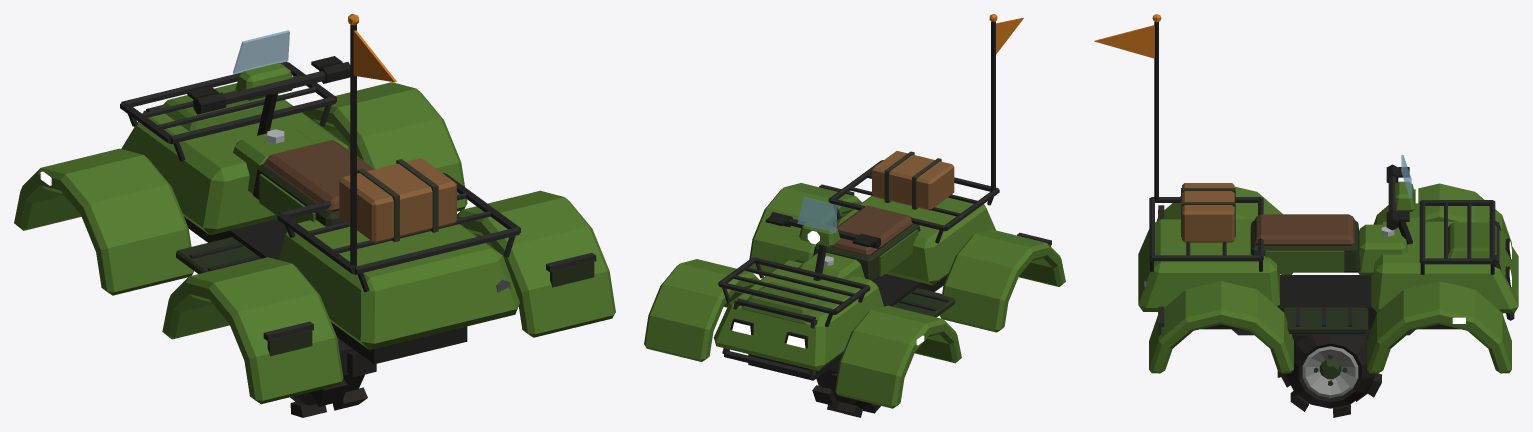
Rendered from ScoutATV.glb.
3 views of the same model, side by side, from view 1: azimuth 30°, elevation 25°; view 2: azimuth 150°, elevation 25°; view 3: azimuth 270°, elevation 25° (orthographic). The views are drawn at different scales.
Parts seen in each view (by area): view 1: Body, Wheel, Glass; view 2: Body, Wheel, Glass, Lights; view 3: Body, Wheel.
Part boxes in pixels (bbox=[...]): Body: bbox=[14, 14, 615, 404]; Wheel: bbox=[290, 342, 376, 417]; Glass: bbox=[233, 30, 289, 74]; Body: bbox=[644, 14, 1065, 408]; Wheel: bbox=[812, 362, 880, 417]; Glass: bbox=[797, 197, 837, 232]; Lights: bbox=[662, 231, 924, 348]; Body: bbox=[1094, 14, 1518, 373]; Wheel: bbox=[1277, 335, 1381, 417].
Size of the model in its own units: 9.4 by 12.28 by 12.89.
